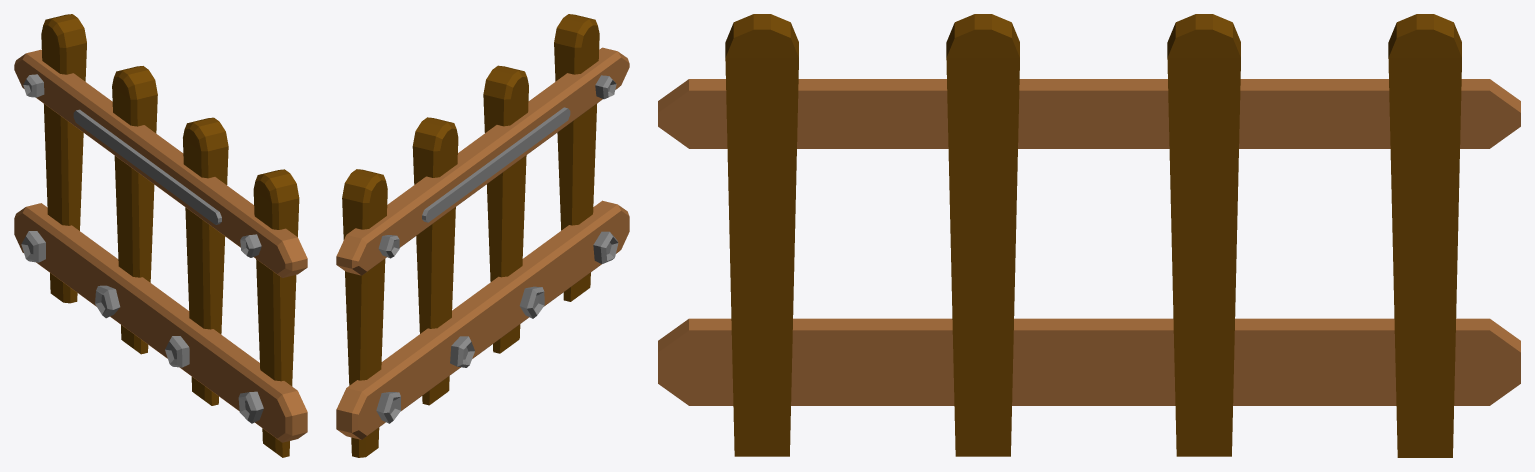
File: Fence.fbx
3 views of the same model, side by side, from view 1: azimuth 30°, elevation 25°; view 2: azimuth 150°, elevation 25°; view 3: azimuth 270°, elevation 25° (orthographic). The views are drawn at different scales.
Parts seen in each view (by area): view 1: Fence; view 2: Fence; view 3: Fence.
Part boxes in pixels (x1,y1,x2,y2): Fence: (14, 14, 307, 457); Fence: (336, 14, 629, 457); Fence: (658, 14, 1520, 457).
Size of the model in its own units: 0.5917 by 3.51 by 6.33.
